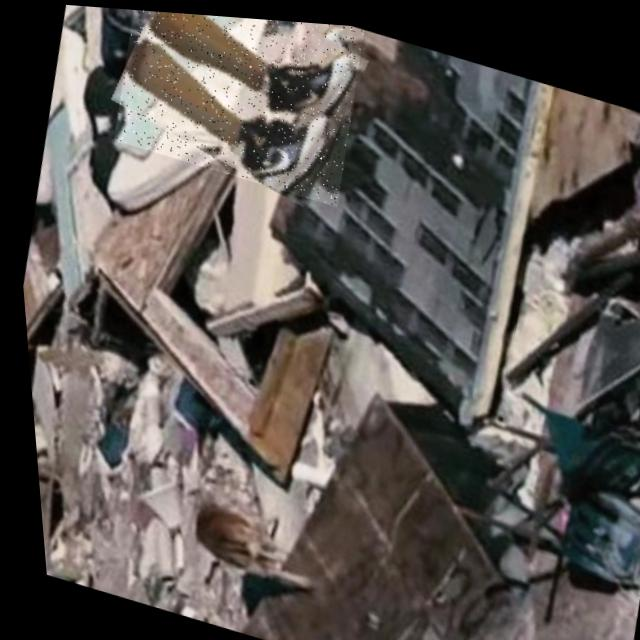Person in Rubble: (103, 6, 376, 203)
